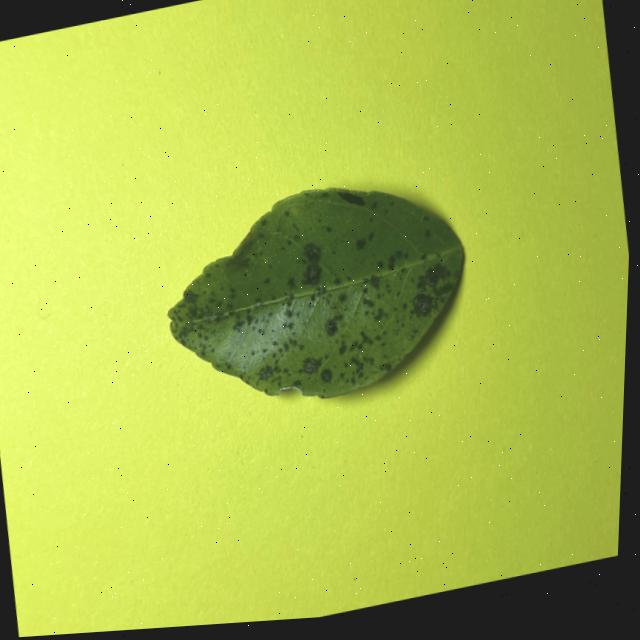sooty_mold: (168, 189, 462, 398)
